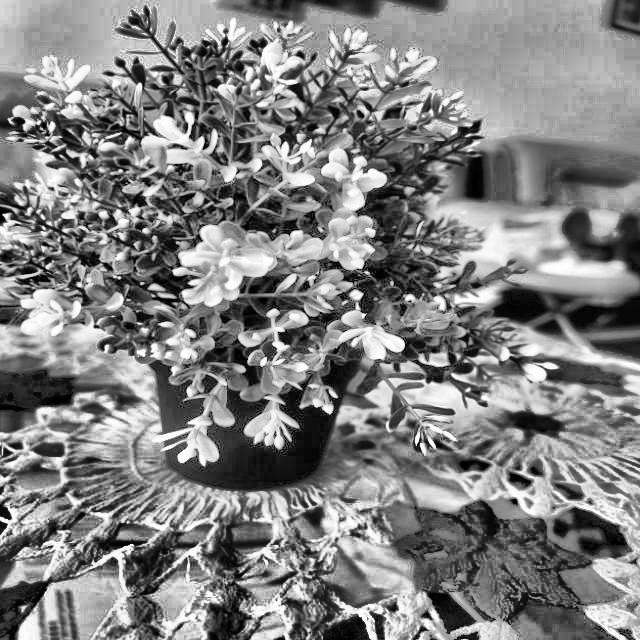plants: (0, 12, 592, 474)
